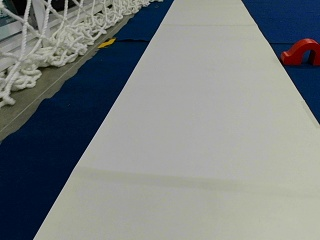bridge: (282, 38, 319, 64)
